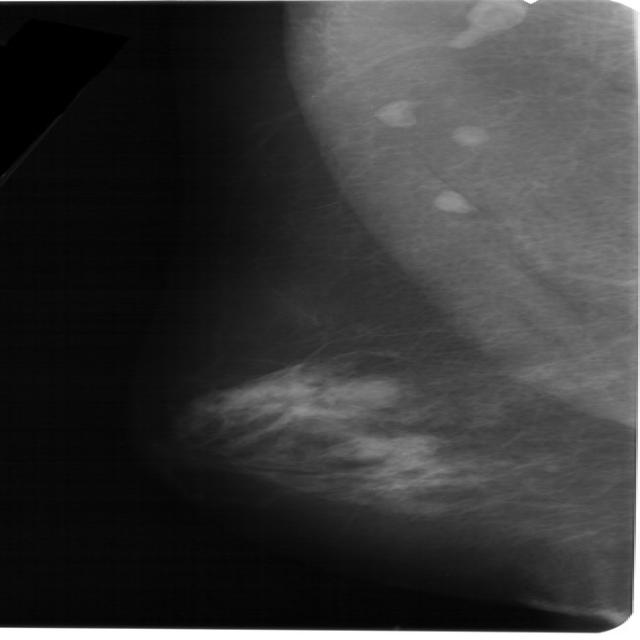tumour: (334, 375, 396, 405)
